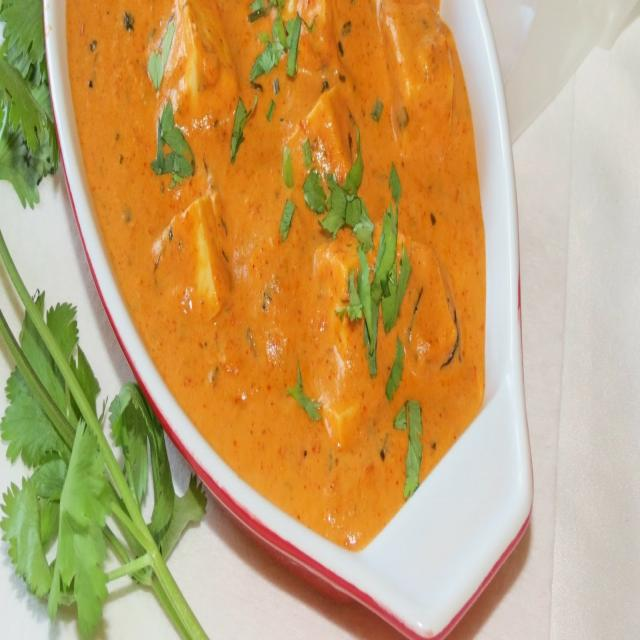ShahiPaneer: (64, 0, 485, 549)
